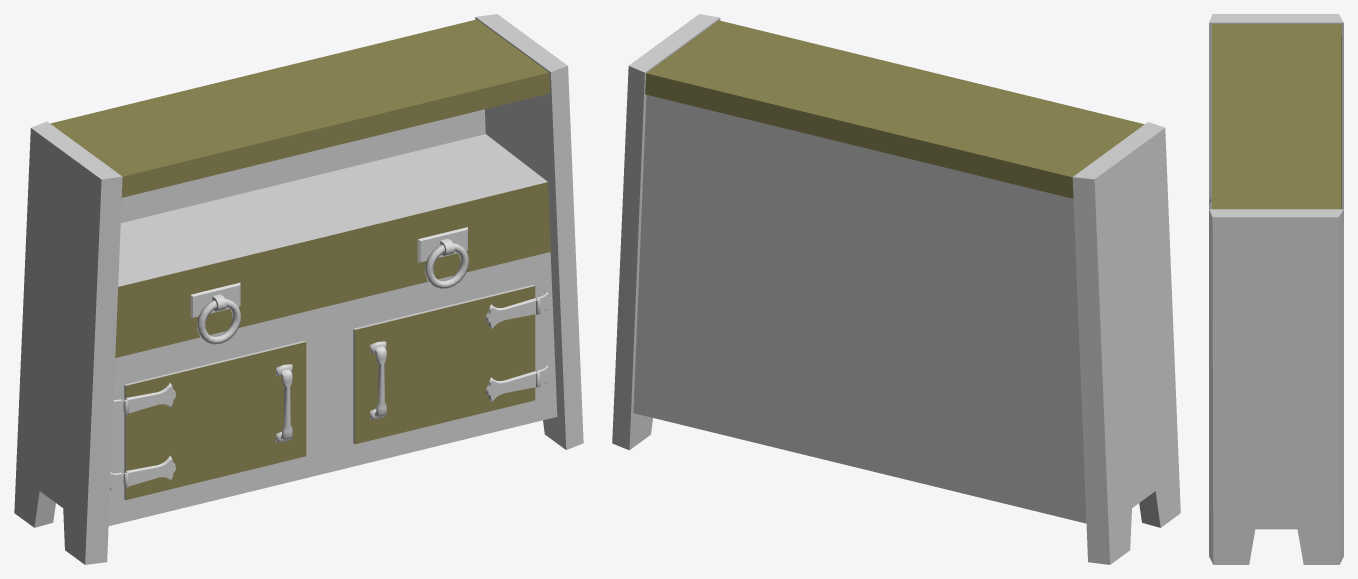
The model's file is opt_cabinet.glb.
3 renders of one model, left to right at view 1: azimuth 30°, elevation 25°; view 2: azimuth 150°, elevation 25°; view 3: azimuth 270°, elevation 25°, orthographic. The views are drawn at different scales.
Visible parts, largest first — view 1: opt_cabinet; view 2: opt_cabinet; view 3: opt_cabinet.
Part boxes in pixels (left/top/right/bottom): opt_cabinet: left=14, top=14, right=583, bottom=564; opt_cabinet: left=612, top=14, right=1180, bottom=564; opt_cabinet: left=1209, top=14, right=1343, bottom=564.
Bounding box in the file's own units: 1.43 × 1.05 × 0.375.
